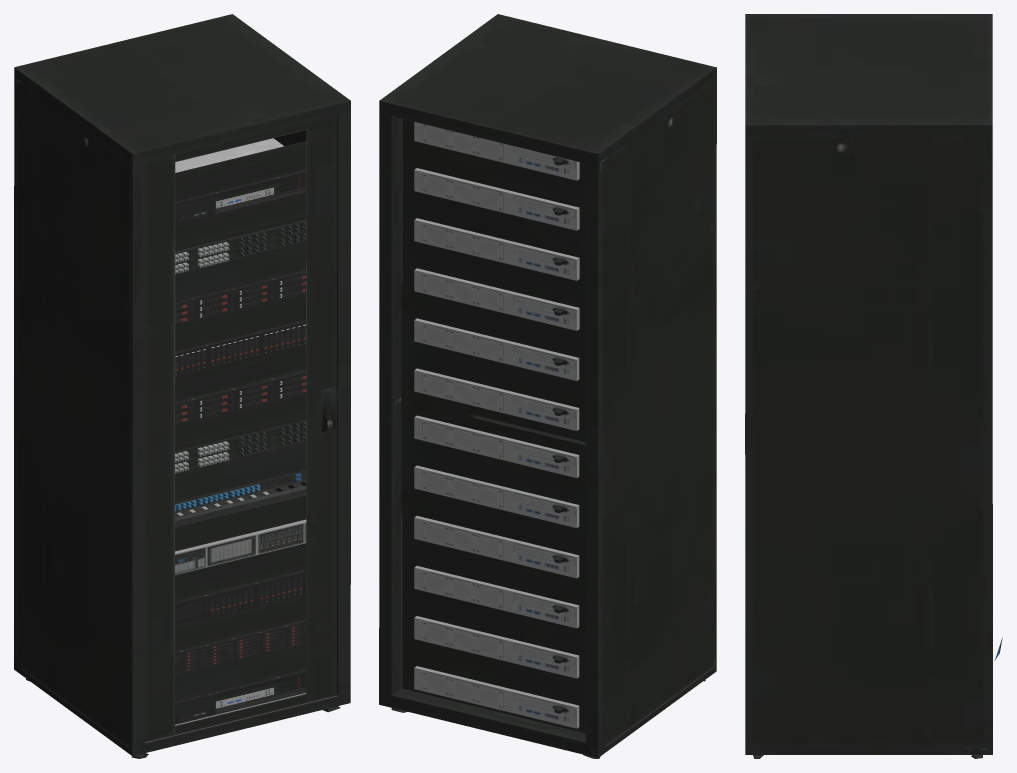
The model's file is dev-server-rack_lod2.glb.
The picture shows the model from 3 angles, left to right: view 1: azimuth 30°, elevation 25°; view 2: azimuth 150°, elevation 25°; view 3: azimuth 270°, elevation 25°; orthographic projection. The views are drawn at different scales.
Visible parts, largest first — view 1: body; view 2: body; view 3: body.
Boxes of the visible parts, box(x1,y1,x2,y2) form: body: box(14, 14, 350, 758); body: box(379, 14, 716, 758); body: box(745, 14, 1002, 758).
Size of what is drawn, in the model's own units: 0.6 by 1.6 by 0.5871.
Materials: 3 (3 with a texture image).
